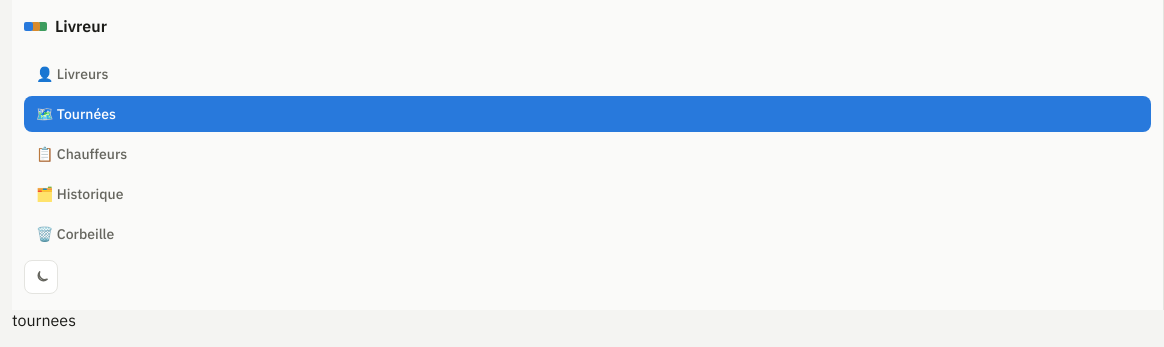
Scenario: Sidebar › affiche les 3 sections et change la section active au clic
This screenshot has width=1164, height=347.
expect the button "📋 Chauffeurs" is shown: met, box [24,136,1151,172]
Click the button "👤 Livreurs".
click(83, 74)  # box [24,56,1151,92]
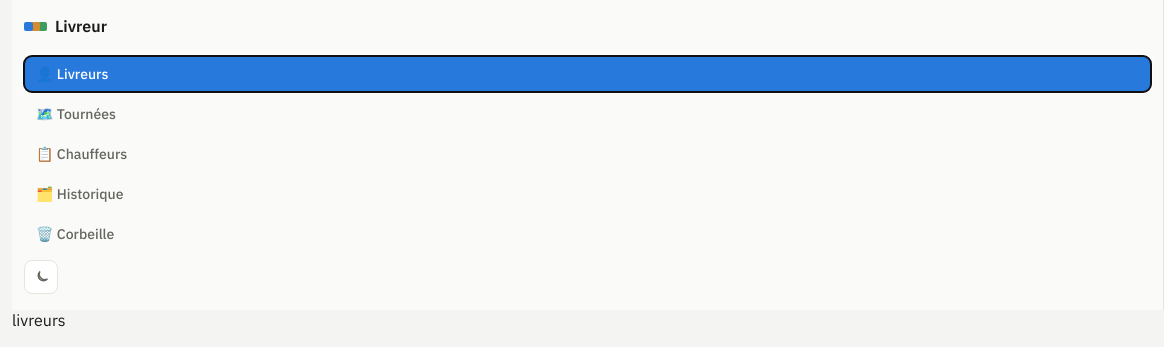
expect the text with test id "section" reads "livreurs": met, box [12,310,66,330]
